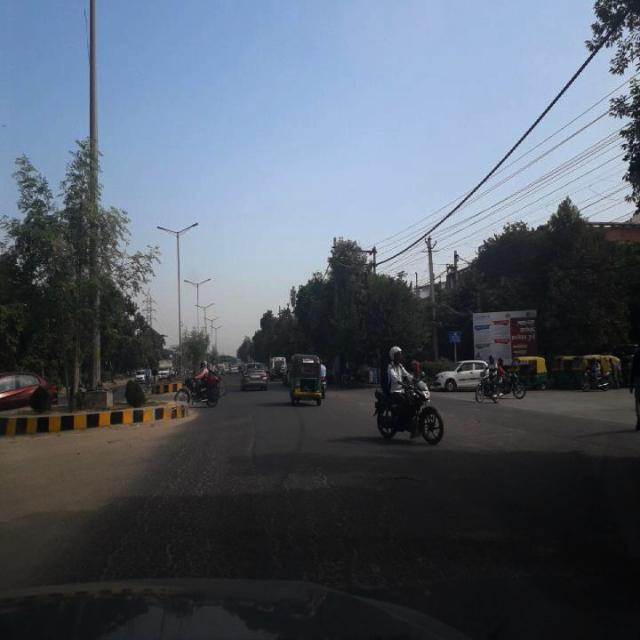crack: (66, 440, 456, 580)
pothole: (368, 459, 438, 502)
